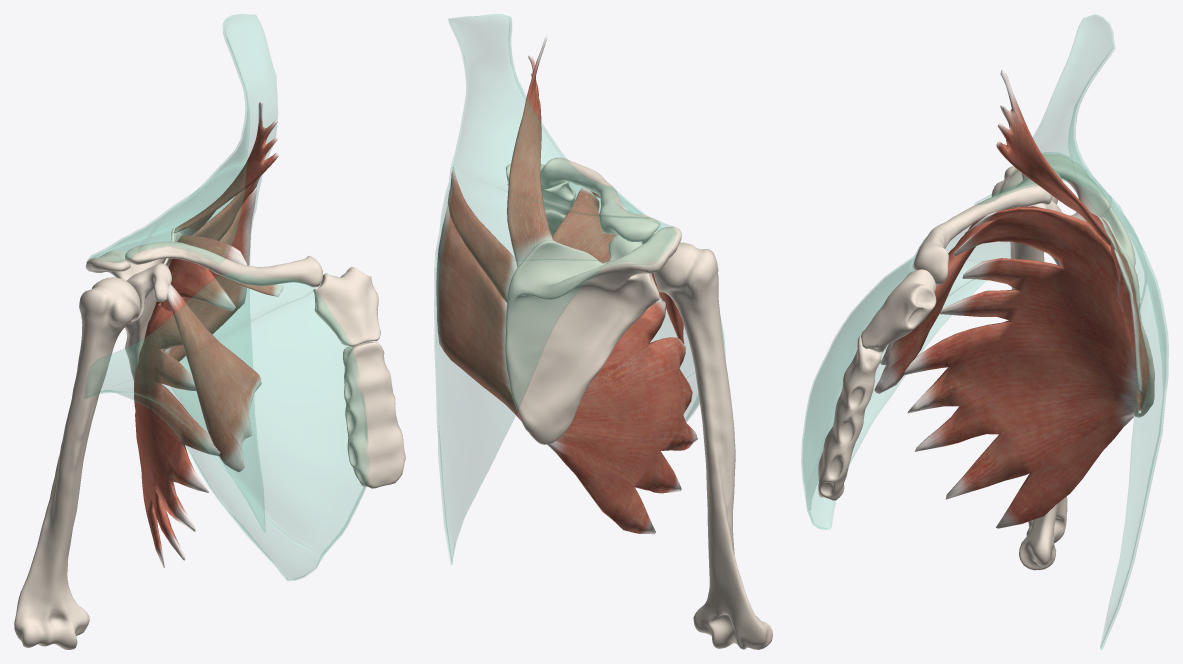
The model's file is shoulder-girdle-muscles.glb.
3 renders of one model, left to right at view 1: azimuth 30°, elevation 25°; view 2: azimuth 150°, elevation 25°; view 3: azimuth 270°, elevation 25°, orthographic. The views are drawn at different scales.
Parts seen in each view (by area): view 1: Sternocostal head of pectoralis major muscle.r, Humerus.r, Serratus anterior muscle.r, Descending part of Trapezius muscle.r, Clavicular head of pectoralis major muscle.r, Pectoralis minor muscle.r, Body of sternum, Abdominal head of pectoralis major muscle.r, Ascending part of Trapezius muscle.r, Manubrium of sternum, Clavicle.r, Scapula.r (+4 smaller); view 2: Ascending part of Trapezius muscle.r, Scapula.r, Serratus anterior muscle.r, Descending part of Trapezius muscle.r, Humerus.r, Transverse part of trapezius muscle.r, Rhomboid major muscle.r, Levator scapulae.r, Clavicle.r, Rhomboid minor muscle.r, Manubrium of sternum, Sternocostal head of pectoralis major muscle.r (+1 smaller); view 3: Serratus anterior muscle.r, Ascending part of Trapezius muscle.r, Descending part of Trapezius muscle.r, Sternocostal head of pectoralis major muscle.r, Body of sternum, Levator scapulae.r, Scapula.r, Clavicle.r, Manubrium of sternum, Humerus.r, Pectoralis minor muscle.r, Transverse part of trapezius muscle.r (+3 smaller).
Part boxes in pixels (x1,y1,x2,y2): Sternocostal head of pectoralis major muscle.r: (89,289,368,555); Humerus.r: (14,277,140,649); Serratus anterior muscle.r: (134,235,247,567); Descending part of Trapezius muscle.r: (138,14,277,263); Clavicular head of pectoralis major muscle.r: (84,274,314,398); Pectoralis minor muscle.r: (167,284,261,472); Body of sternum: (343,341,405,488); Abdominal head of pectoralis major muscle.r: (108,390,323,580); Ascending part of Trapezius muscle.r: (114,230,264,531); Manubrium of sternum: (313,267,380,346); Clavicle.r: (125,241,322,287); Scapula.r: (85,228,181,381); Ascending part of Trapezius muscle.r: (434,259,636,564); Scapula.r: (505,226,681,444); Serratus anterior muscle.r: (547,186,698,534); Descending part of Trapezius muscle.r: (448,14,647,218); Humerus.r: (654,242,772,649); Transverse part of trapezius muscle.r: (434,167,676,269); Rhomboid major muscle.r: (436,204,521,421); Levator scapulae.r: (507,35,552,267); Clavicle.r: (540,157,659,242); Rhomboid minor muscle.r: (447,166,517,302); Manubrium of sternum: (506,164,576,215); Sternocostal head of pectoralis major muscle.r: (569,183,722,378); Serratus anterior muscle.r: (904,206,1137,528); Ascending part of Trapezius muscle.r: (1100,213,1168,649); Descending part of Trapezius muscle.r: (974,14,1114,216); Sternocostal head of pectoralis major muscle.r: (801,255,978,511); Body of sternum: (818,335,881,500); Levator scapulae.r: (996,70,1123,255); Scapula.r: (1013,154,1154,417); Clavicle.r: (913,168,1062,285); Manubrium of sternum: (861,269,936,352); Humerus.r: (991,166,1067,570); Pectoralis minor muscle.r: (874,219,992,393); Transverse part of trapezius muscle.r: (1042,152,1146,315).
Bounding box in the file's own units: 0.276 × 0.4956 × 0.2506.
Materials: 8 (1 with a texture image).
